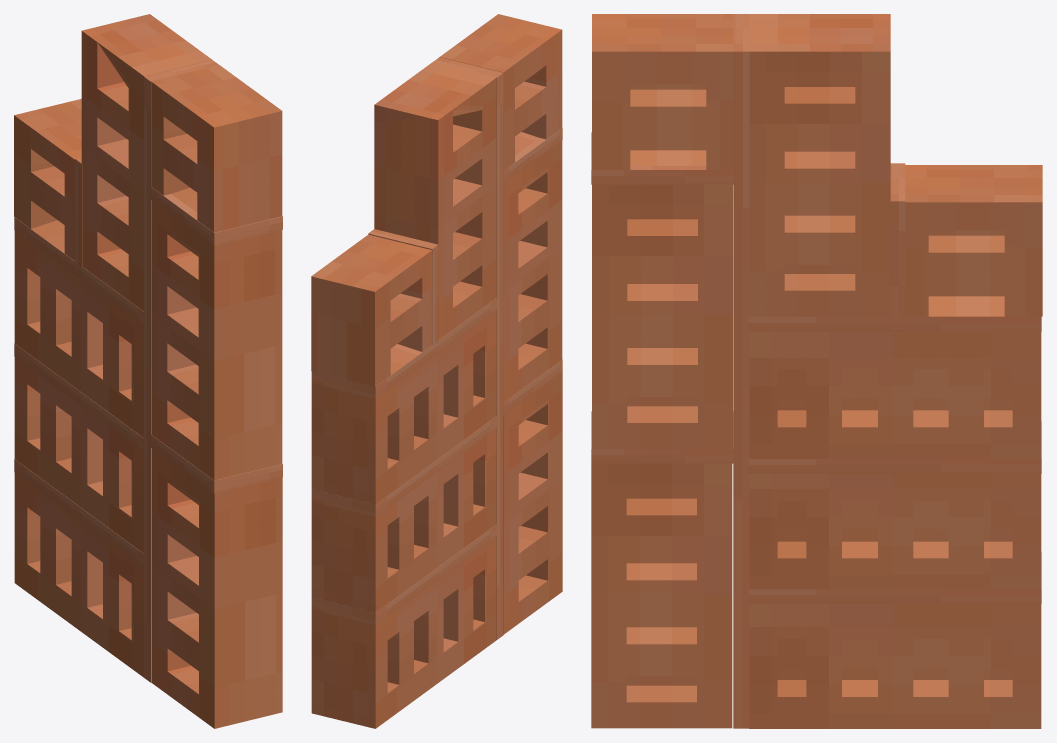
Rendered from Pared_Ladrillos.fbx.
The picture shows the model from 3 angles, left to right: view 1: azimuth 30°, elevation 25°; view 2: azimuth 150°, elevation 25°; view 3: azimuth 270°, elevation 25°; orthographic projection. The views are drawn at different scales.
Parts seen in each view (by area): view 1: Pared_ladrillos; view 2: Pared_ladrillos; view 3: Pared_ladrillos.
Part boxes in pixels (x1=…): Pared_ladrillos: x1=14, y1=14, x2=282, y2=728; Pared_ladrillos: x1=311, y1=14, x2=562, y2=728; Pared_ladrillos: x1=591, y1=14, x2=1042, y2=728.
Size of the model in its own units: 0.3412 by 2.86 by 1.73.
